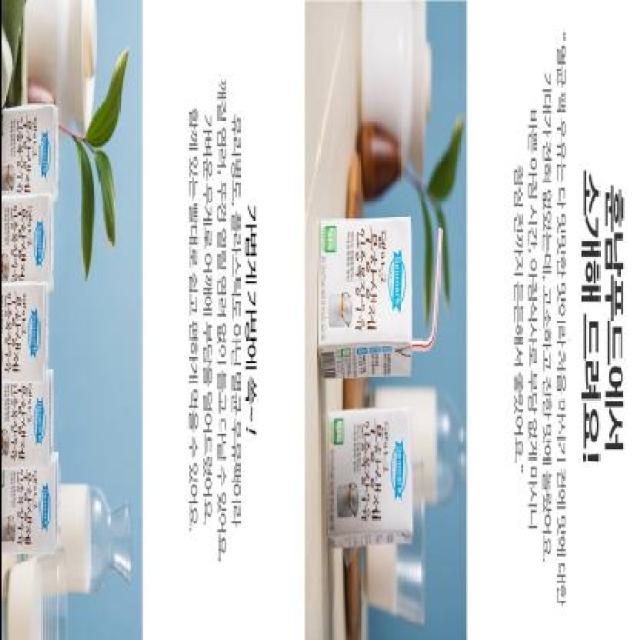tetra: (313, 170, 450, 392), (322, 389, 418, 586)
